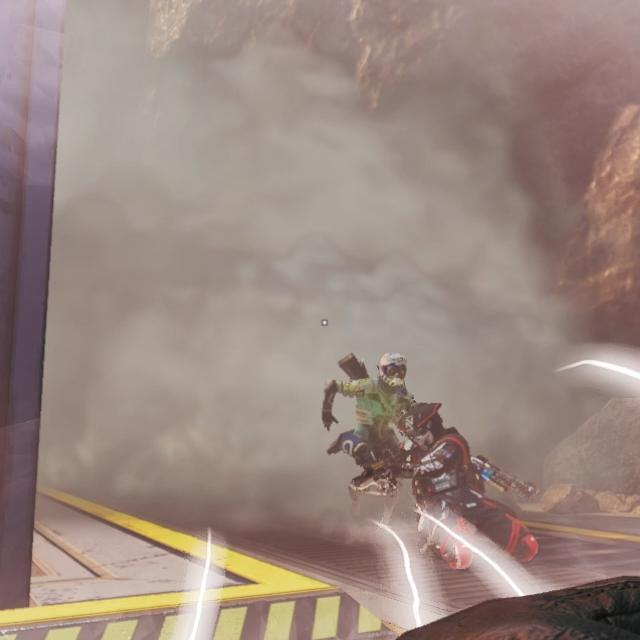avatar: (393, 398, 541, 572), (318, 349, 411, 498)
